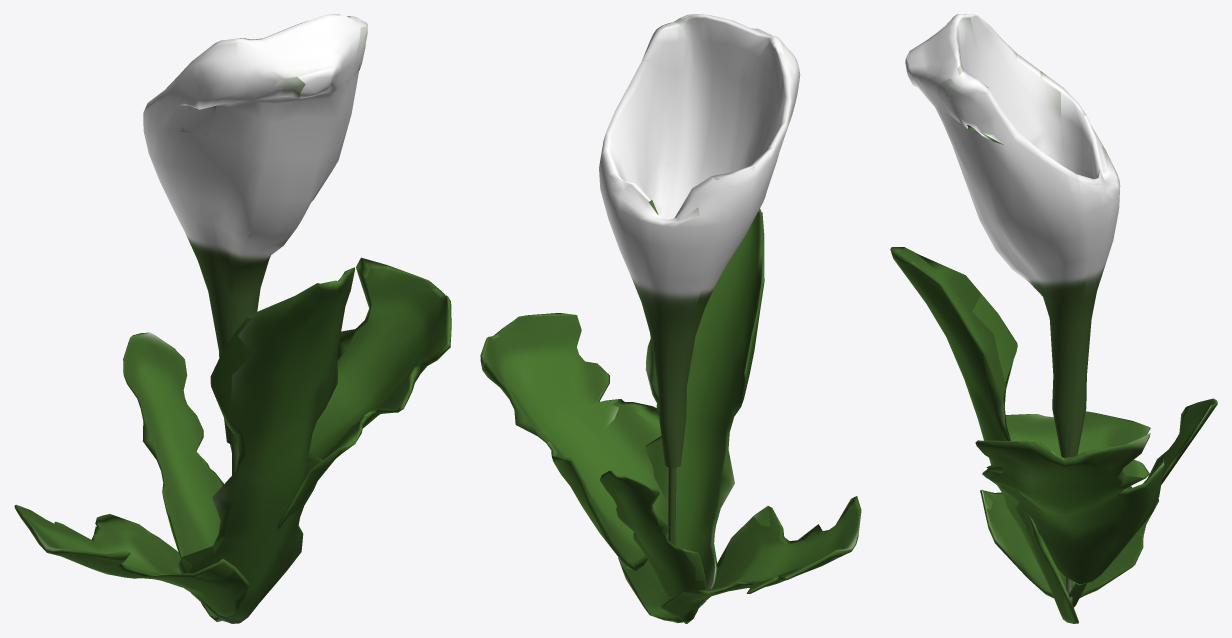
The model's file is plant3.fbx.
The picture shows the model from 3 angles, left to right: view 1: azimuth 30°, elevation 25°; view 2: azimuth 150°, elevation 25°; view 3: azimuth 270°, elevation 25°; orthographic projection. The views are drawn at different scales.
Parts seen in each view (by area): view 1: polySurface1; view 2: polySurface1; view 3: polySurface1.
Part boxes in pixels (x1,y1,x2,y2): polySurface1: (14, 14, 451, 623); polySurface1: (480, 14, 861, 623); polySurface1: (890, 14, 1217, 623).
Size of the model in its own units: 40.74 by 61.92 by 31.4.
1 material, 1 textured.
